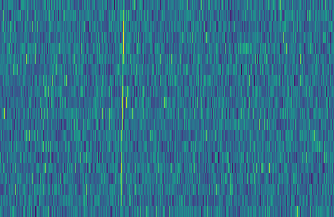signal: (115, 0, 127, 217)
